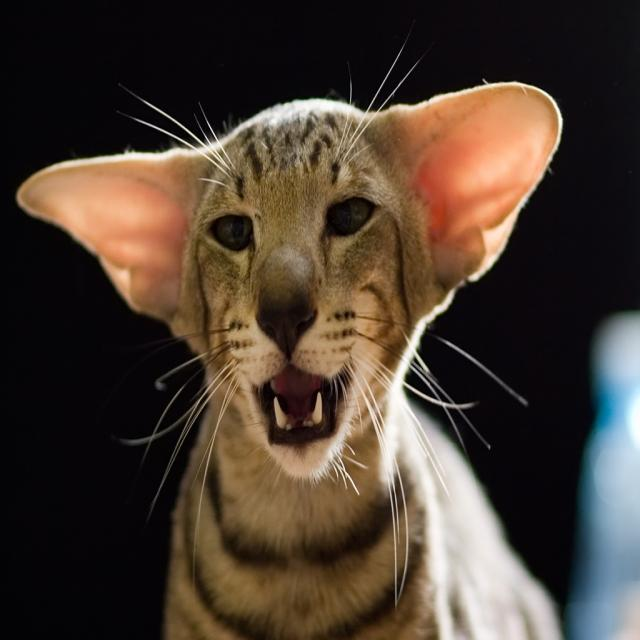Cat: (16, 47, 563, 639)
